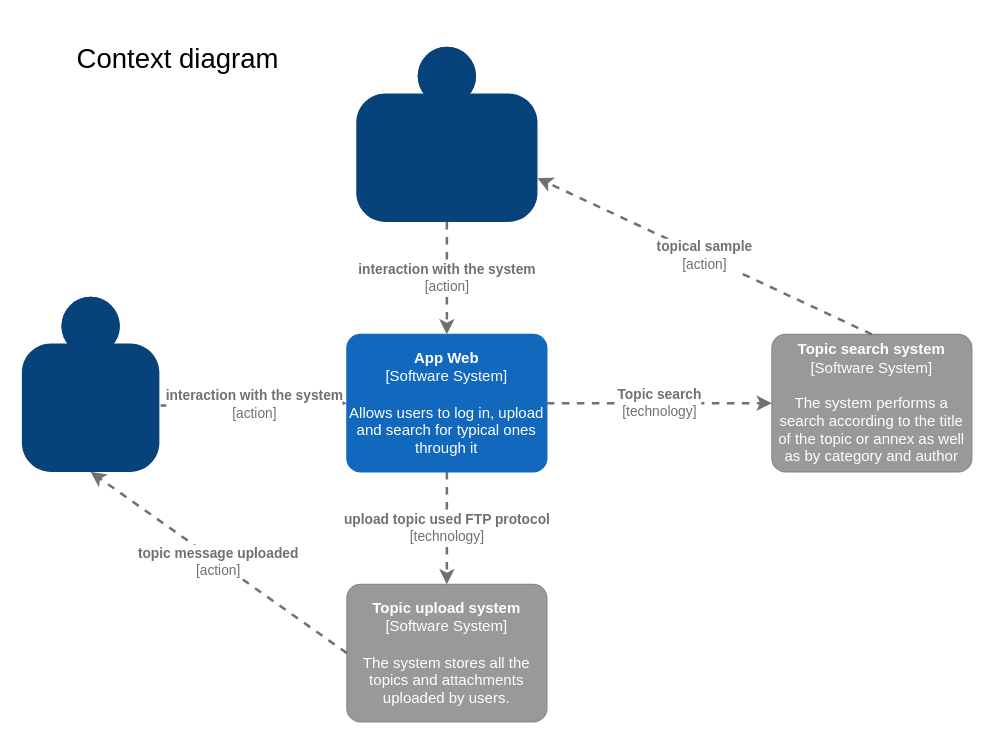
Image size: 994x744. Some labels were removed from this diagram. Each missing label, with the box of its shape:
Administrator [Person] System manager: (21, 296, 159, 471)
User [Person] Employee with an account: (356, 46, 537, 221)
